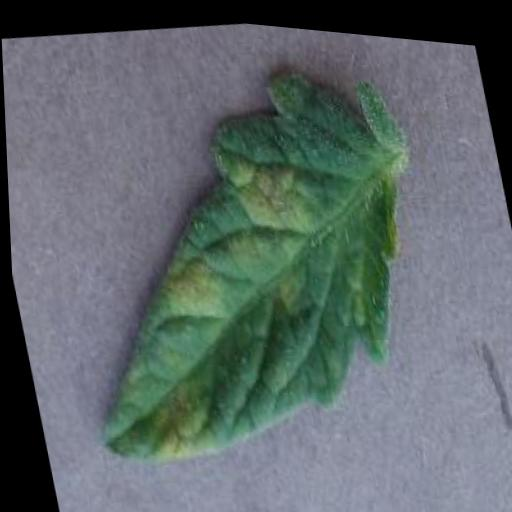Leaf Mold: (28, 34, 462, 490)
